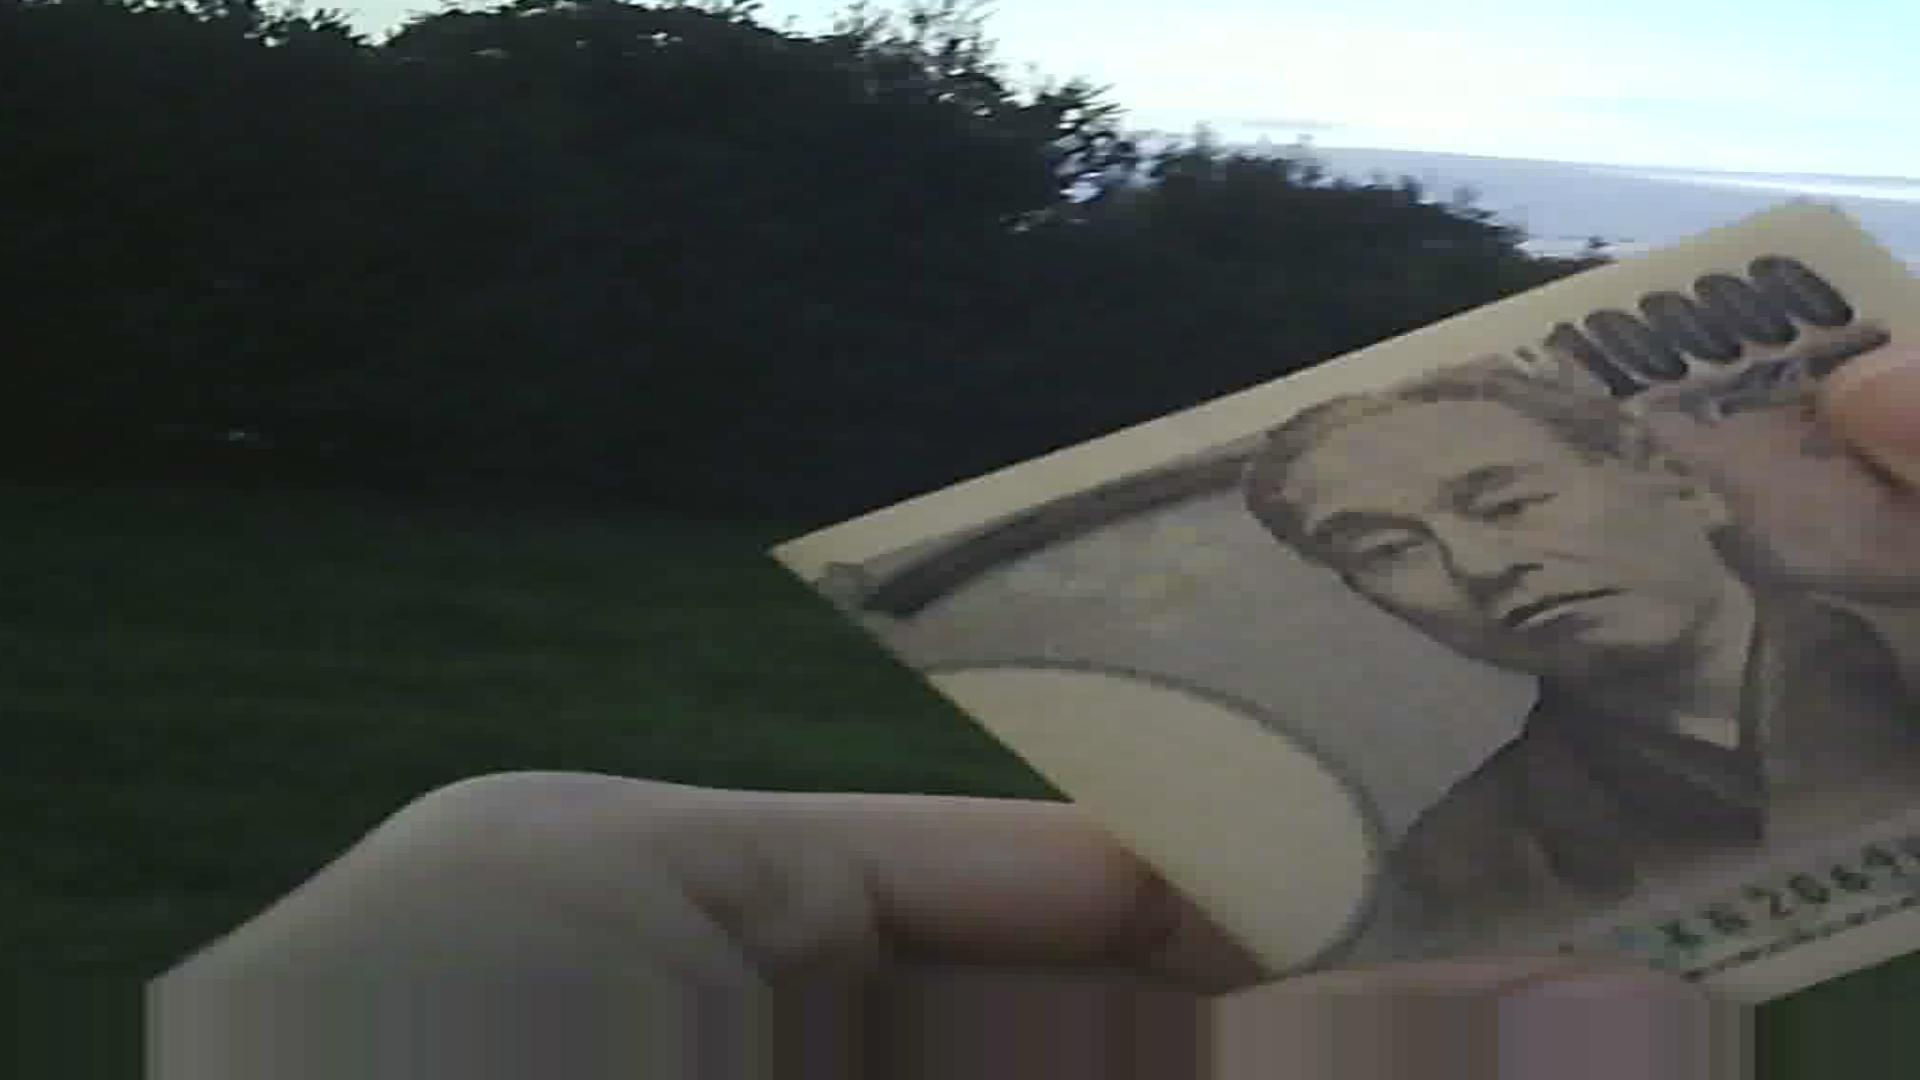10,000 Yen: (819, 149, 1898, 1019)
